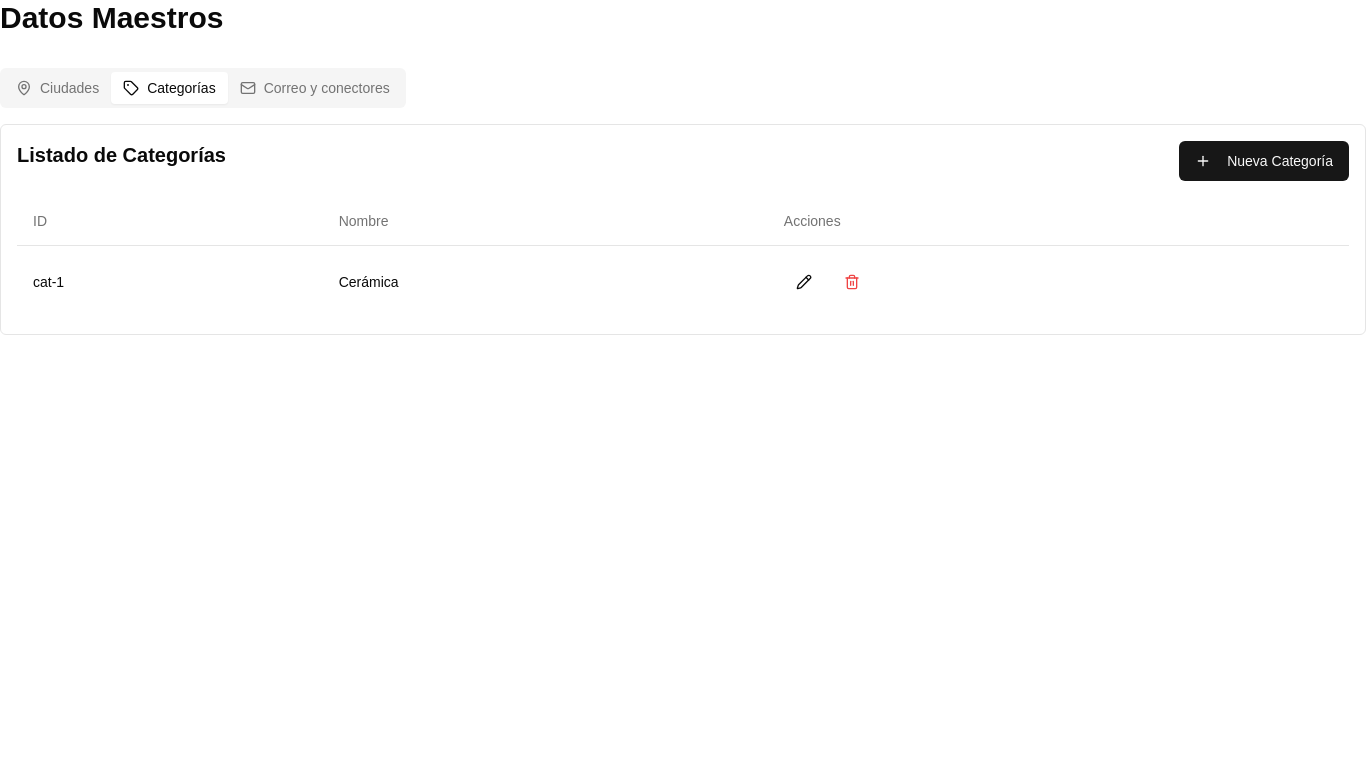
Admin masters page › updates and deletes a category successfully
Later steps or results of the test are not shown.
expect the heading "Listado de Categorías" is shown: met, box [17, 144, 226, 166]
Click the 2nd button at (804, 282), box [784, 262, 824, 302]
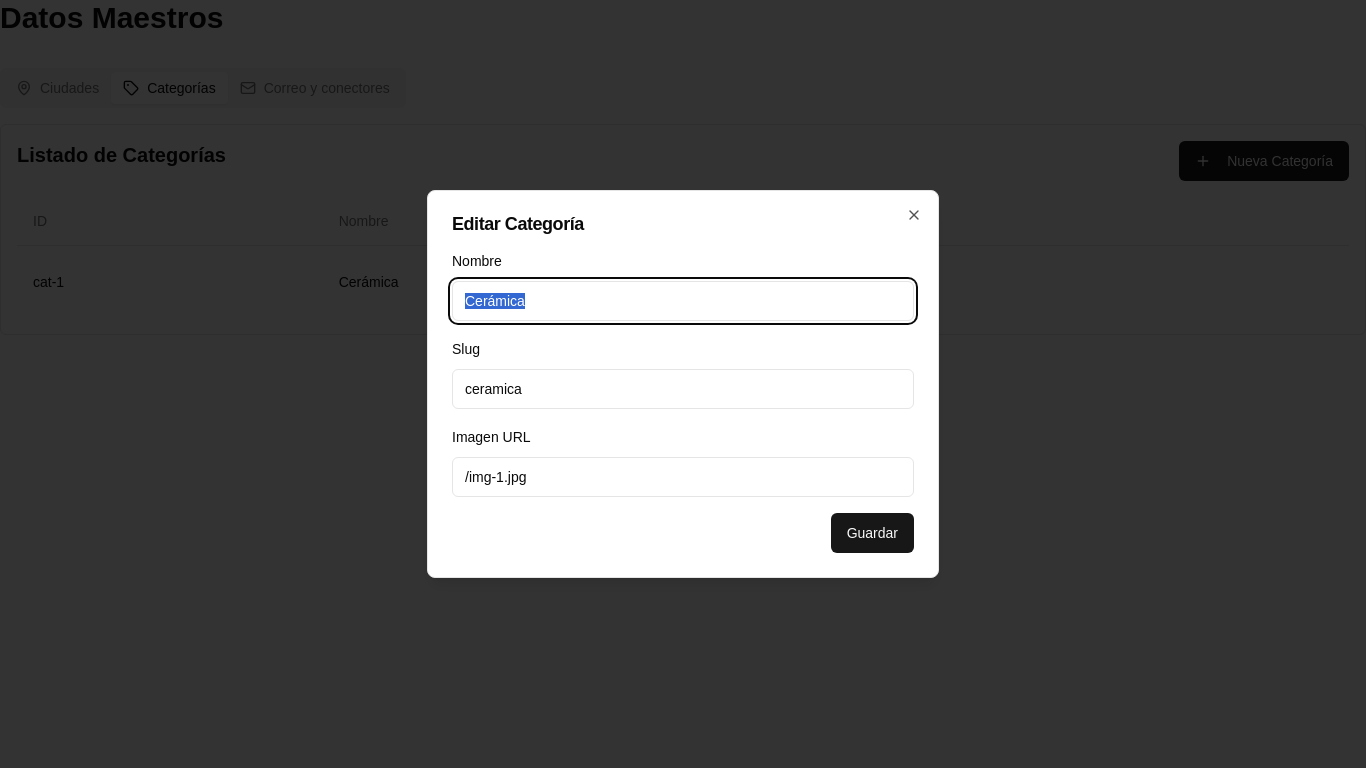
Replace the text in the field labelled "Nombre" with "Textil" at (683, 301), box [452, 281, 914, 321]
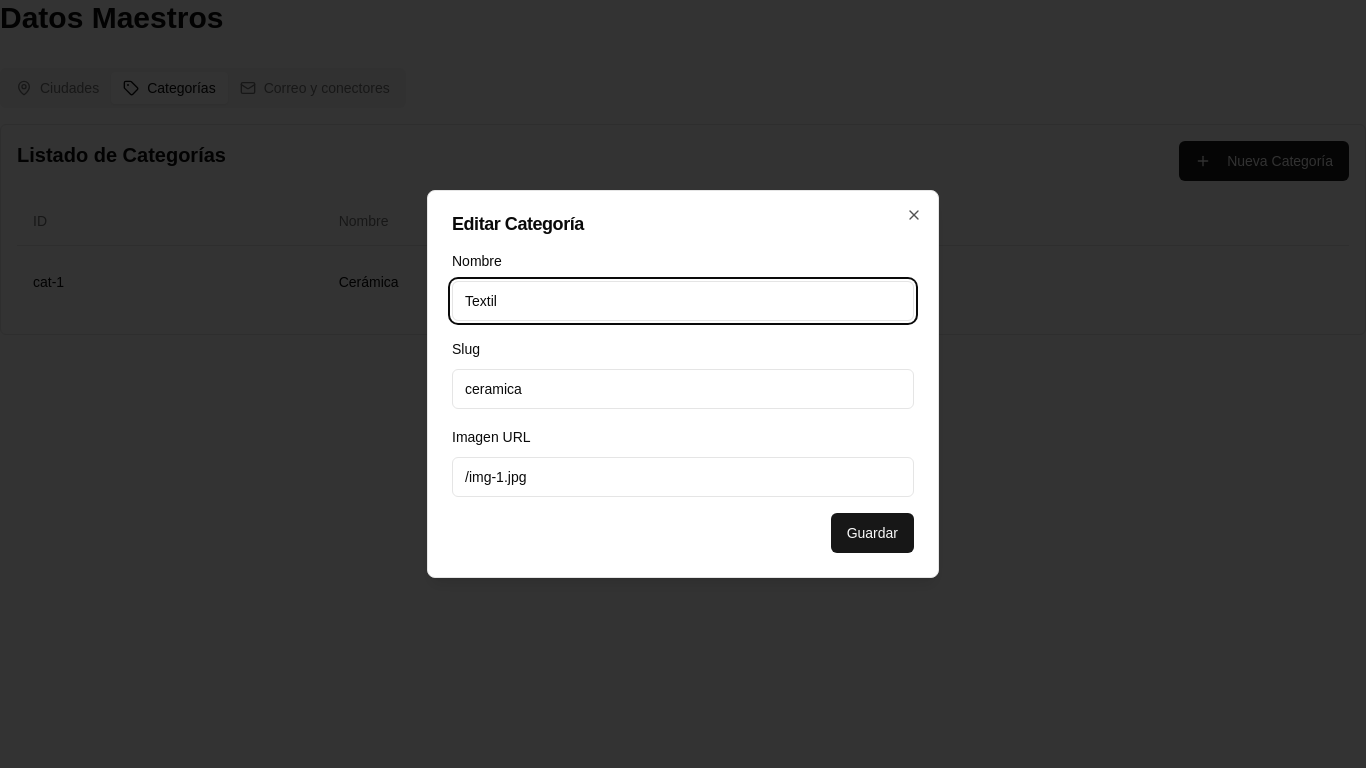
Replace the text in the field labelled "Slug" with "textil" at (683, 389), box [452, 369, 914, 409]
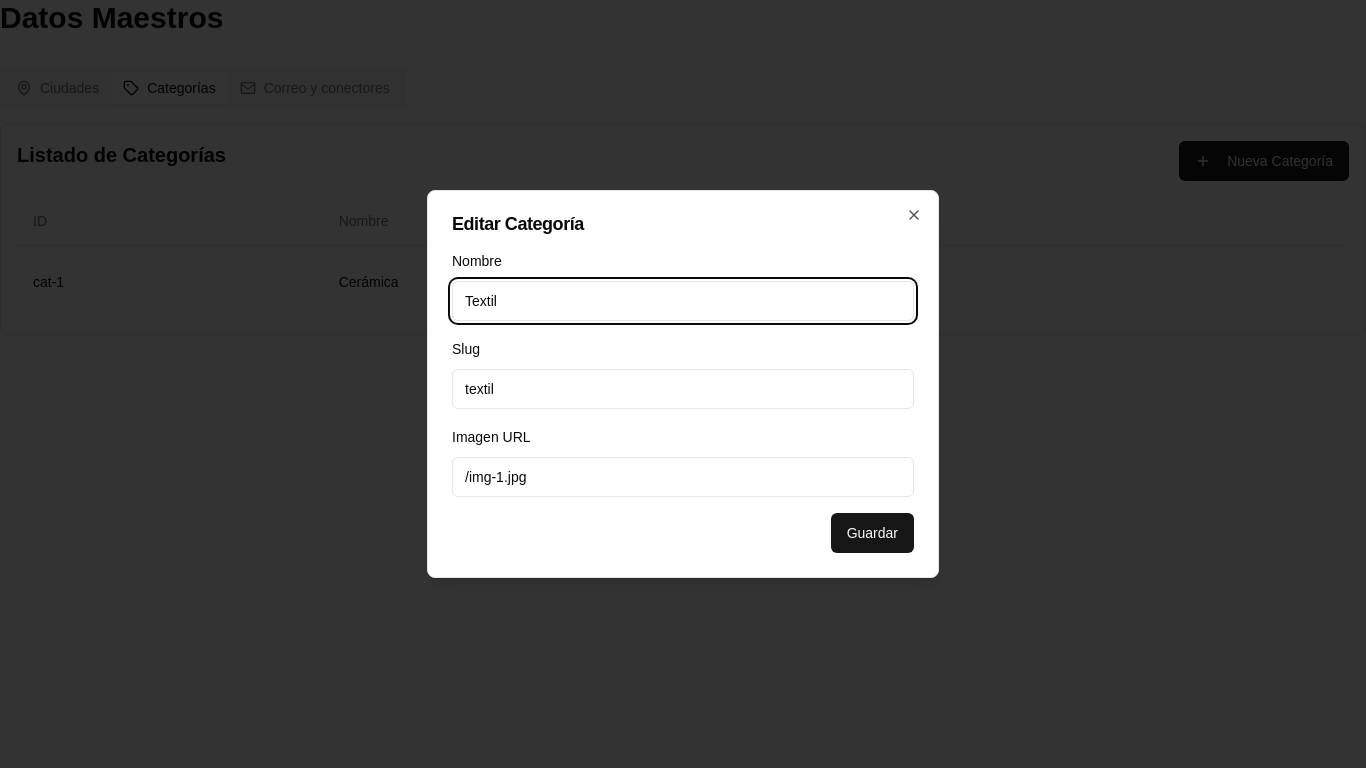
Replace the text in the field labelled "Imagen URL" with "/img-2.jpg" at (683, 477), box [452, 457, 914, 497]
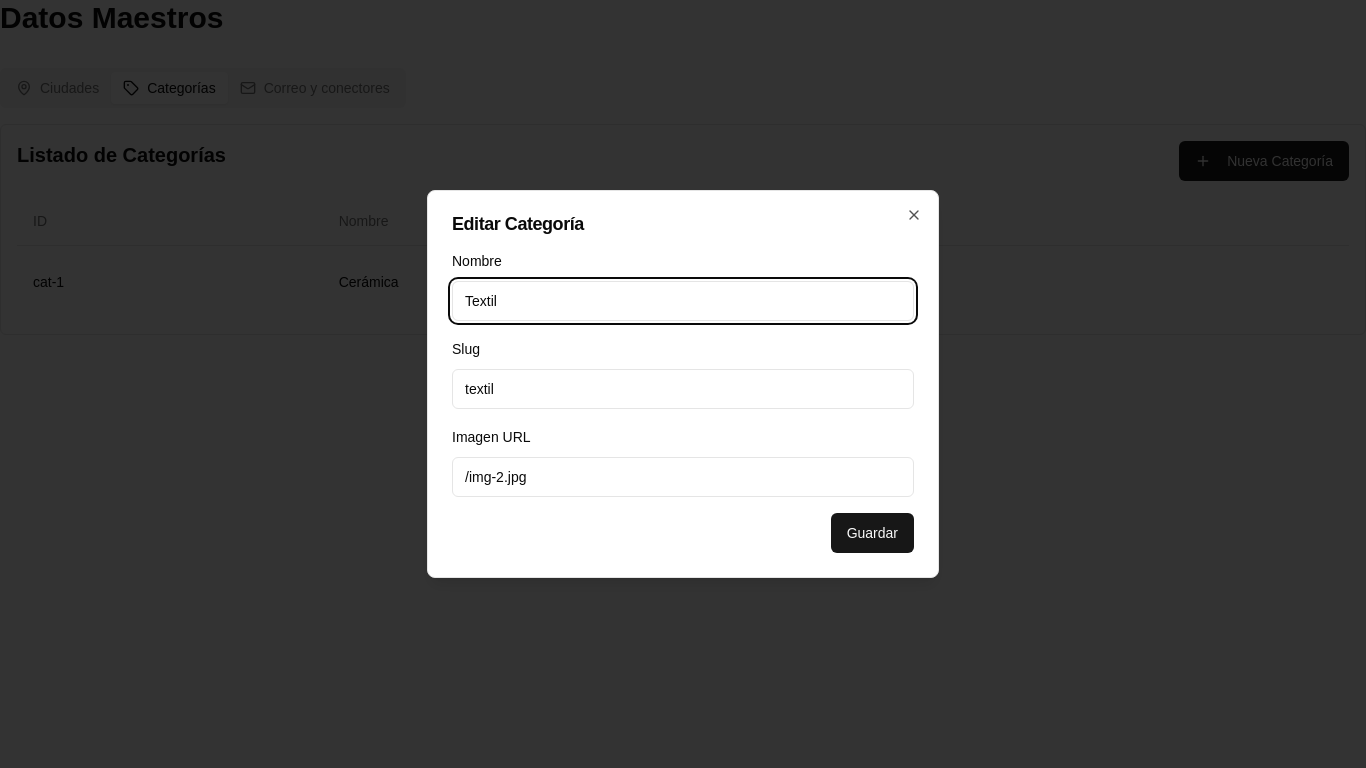
Click the button "Guardar" at (872, 533), box [831, 513, 914, 553]
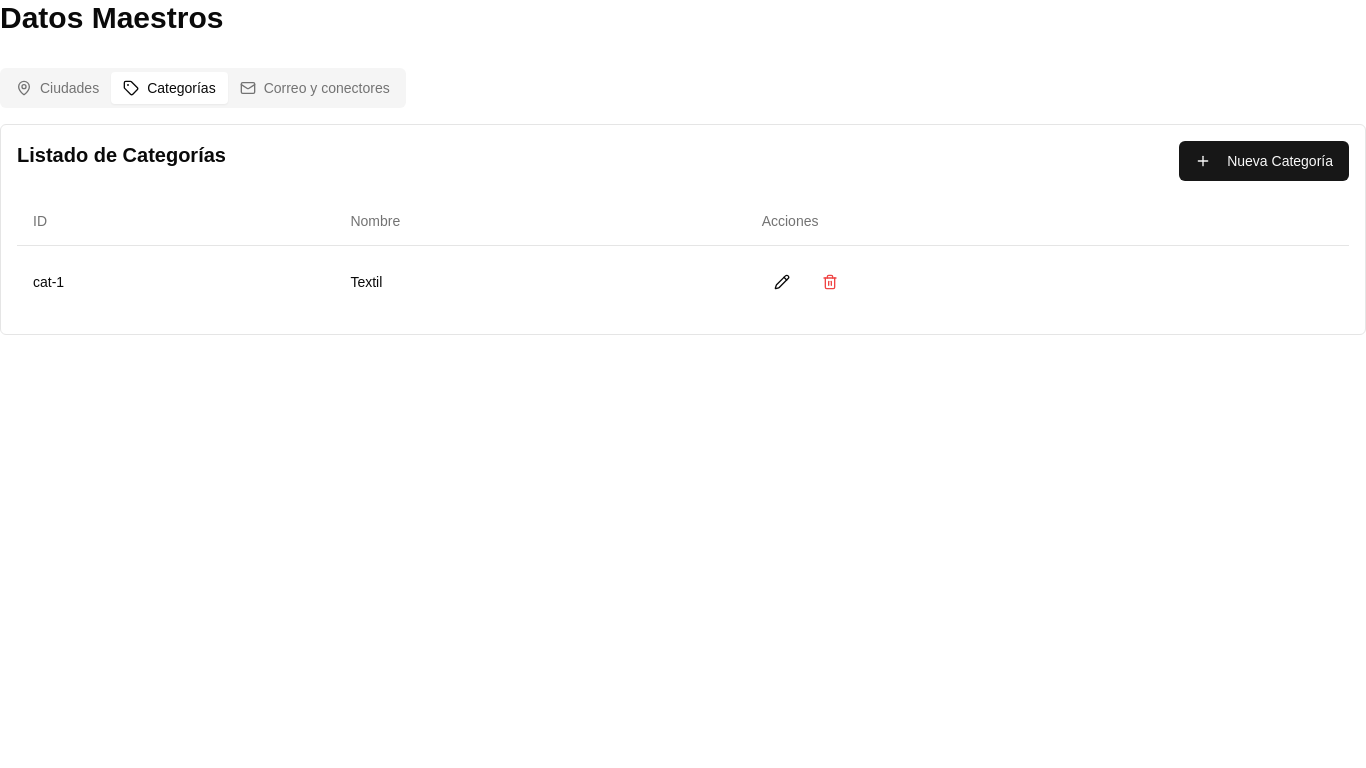
expect the text "Textil" is shown: met, box [334, 245, 746, 318]
